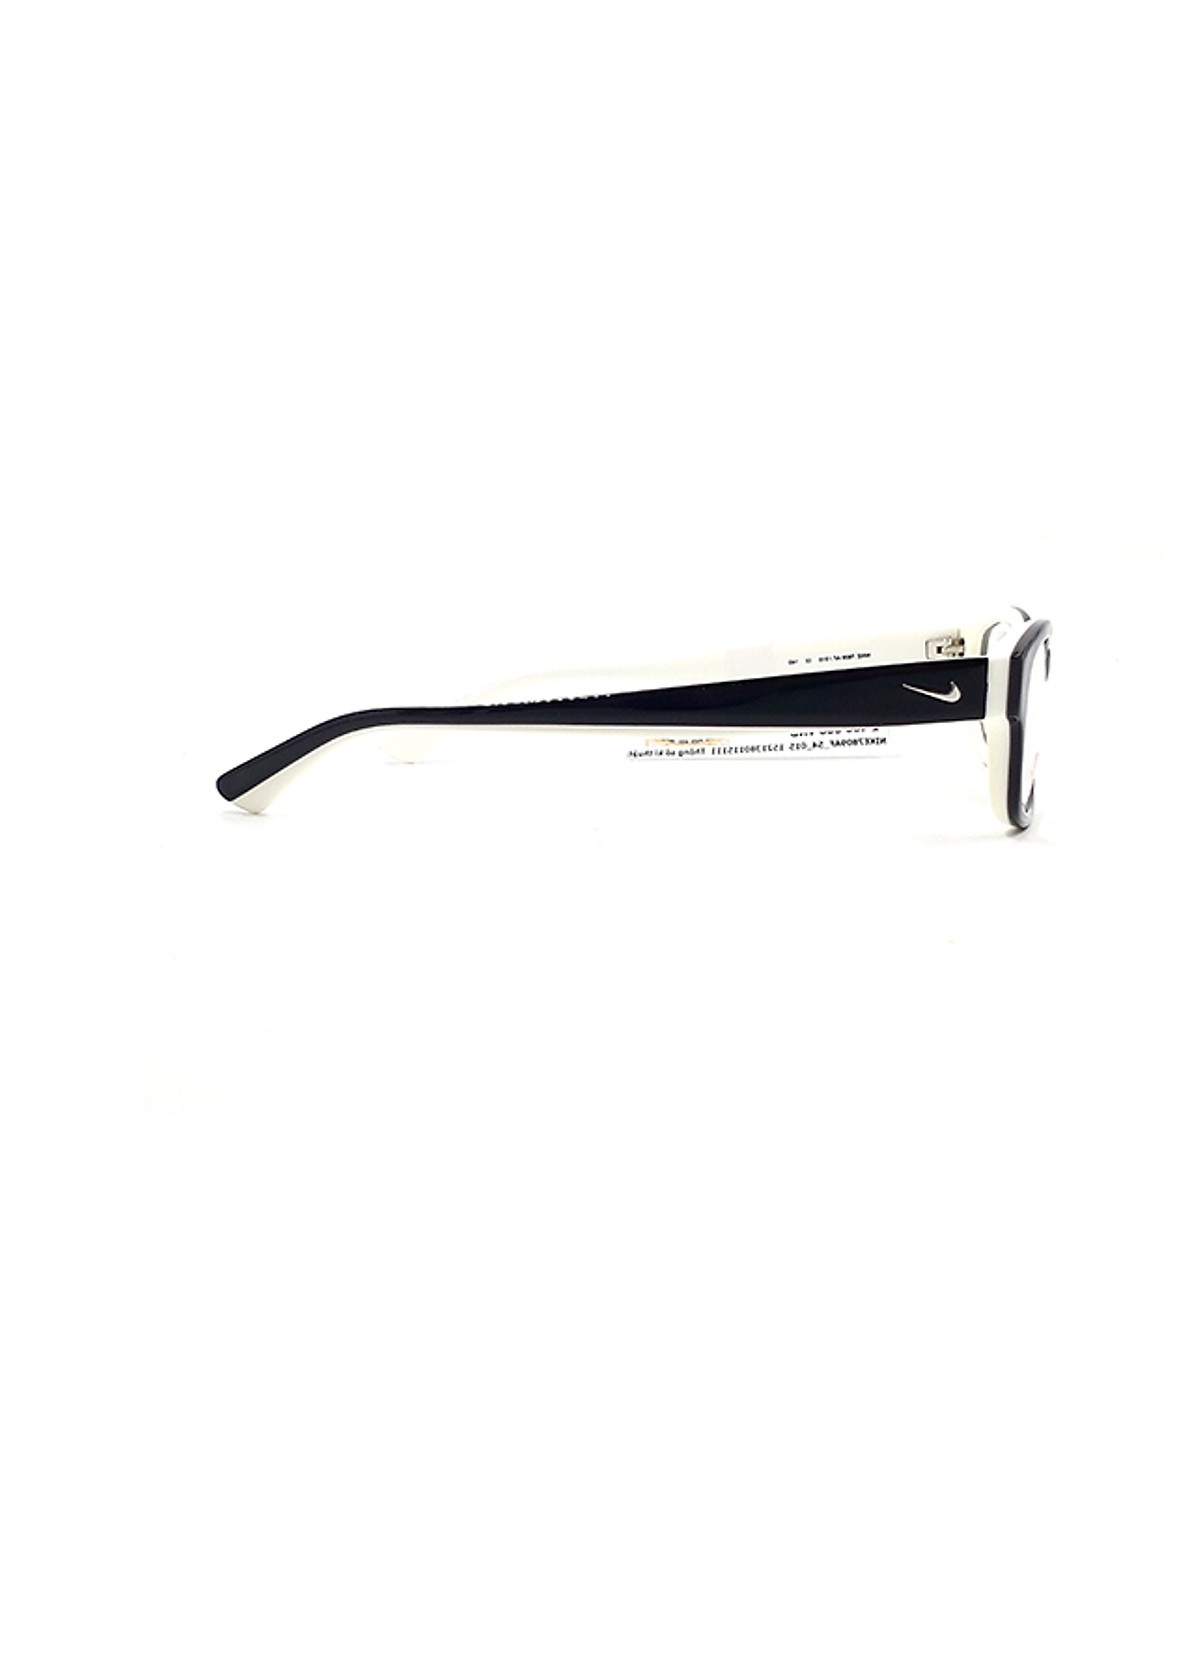Nike: (823, 623, 1023, 767)
